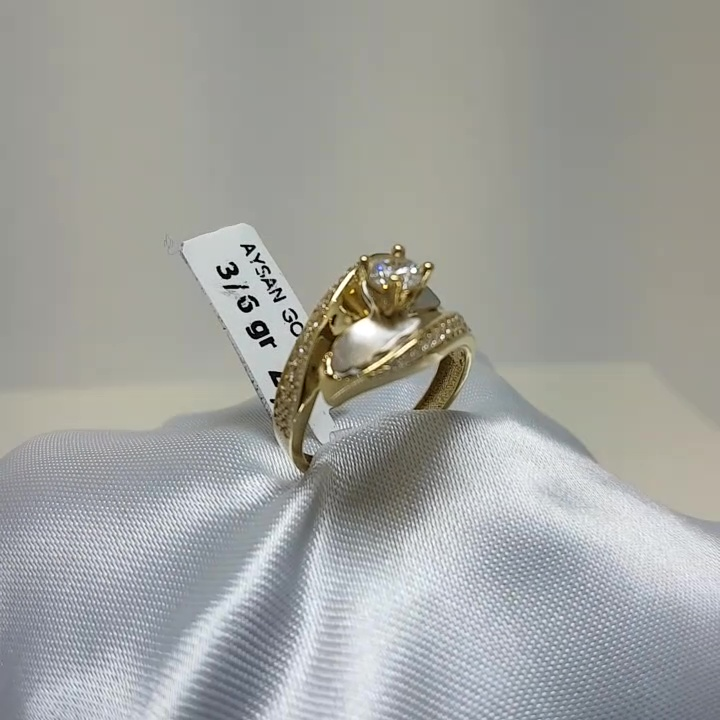Ring 6: (267, 242, 495, 473)
